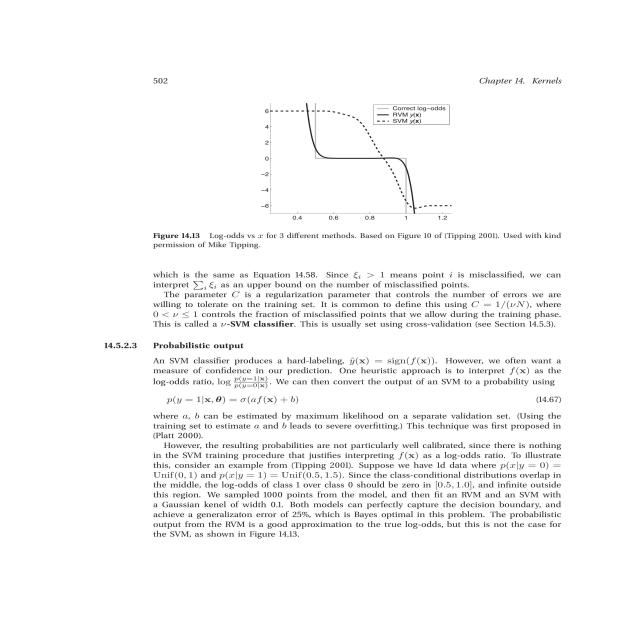diagram: (103, 89, 639, 258)
